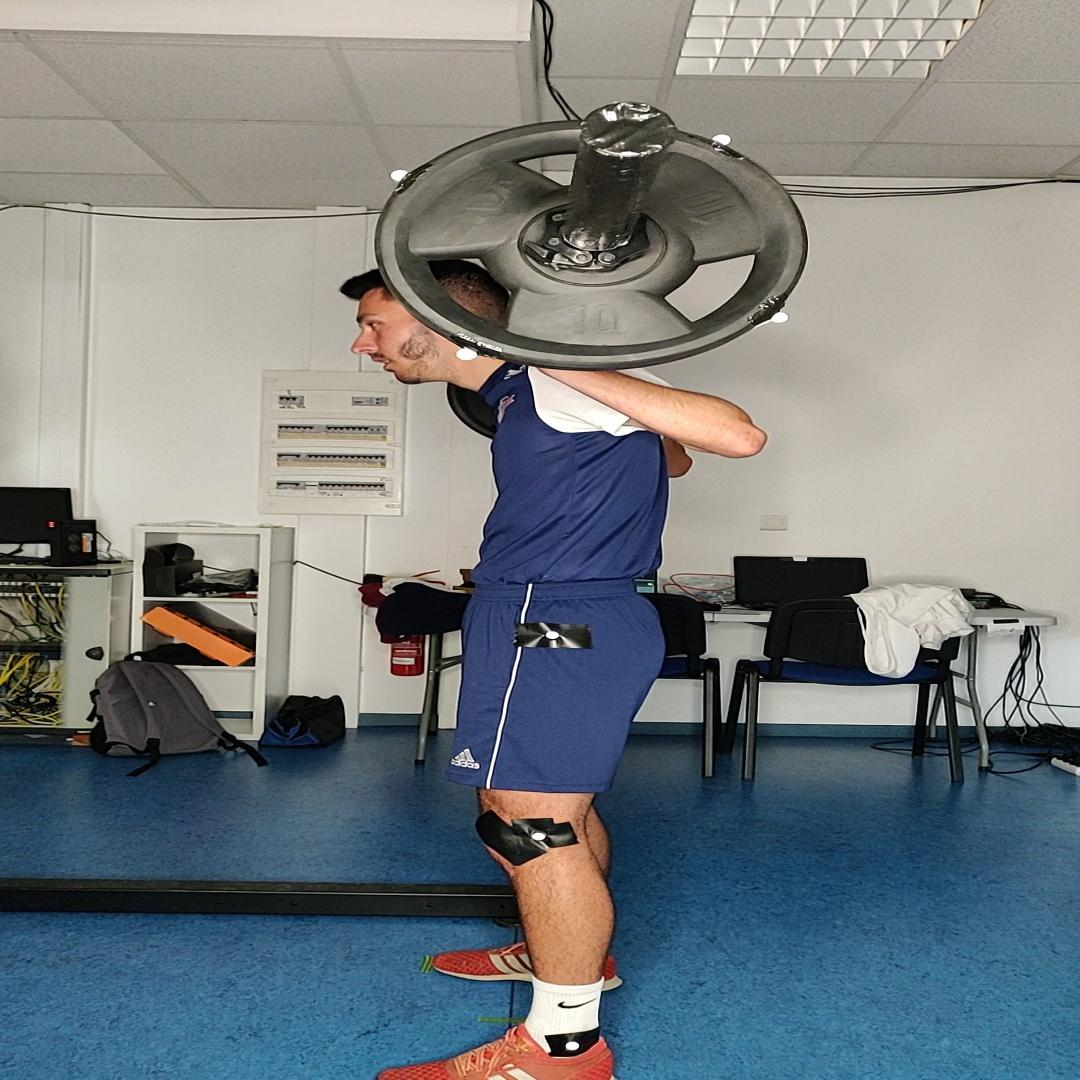Bar: (580, 100, 678, 158)
Barbell: (375, 118, 810, 370)
